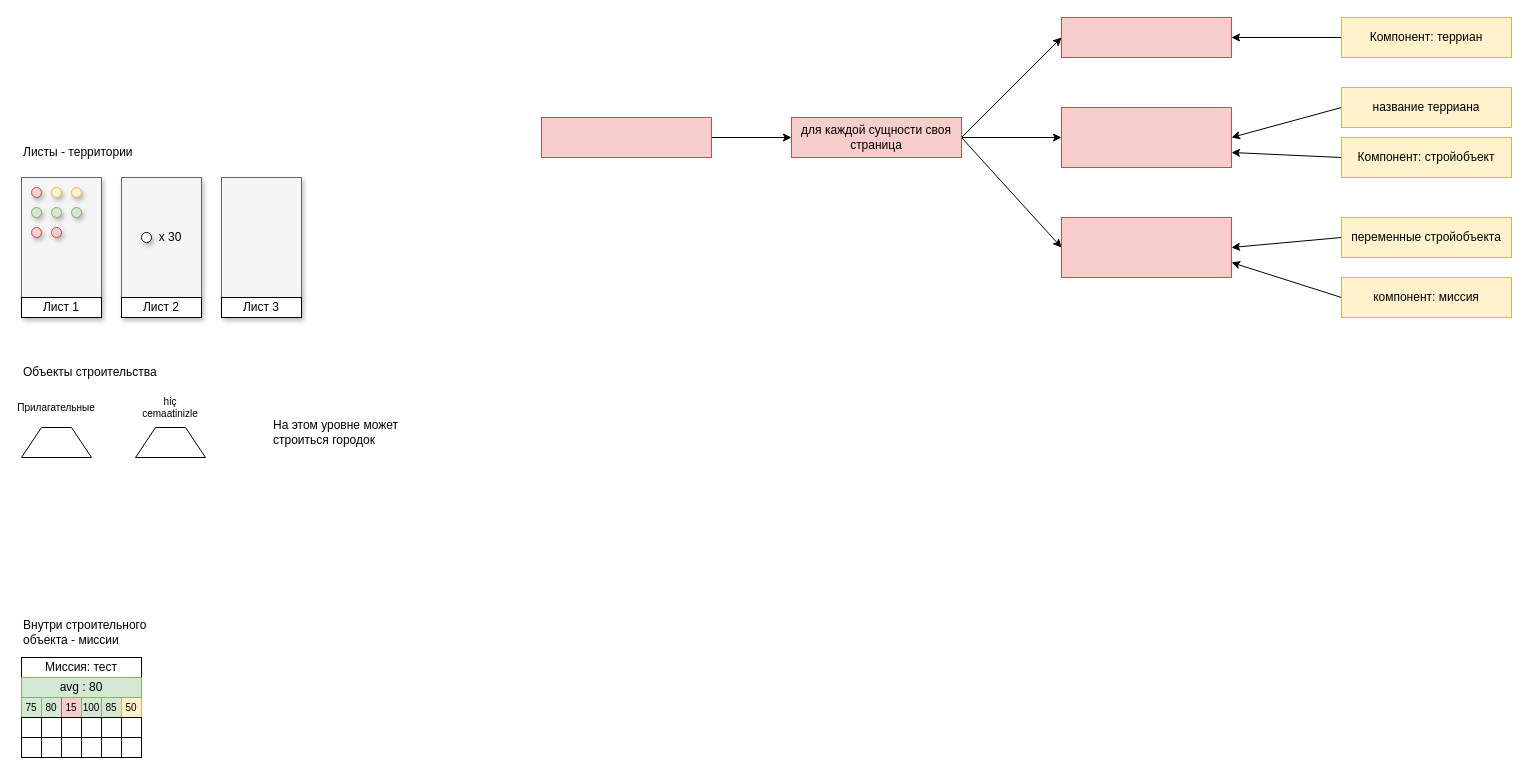
The diagram is 1529 pixels wide and 775 high, and some of its shapes have lost their labels. Each missing label, with the centre of its shape:
Решение по ui-angular страницам: the point at 626,137
Страница: Коллекция террианов: the point at 1146,37
Страница: Стройобъект + название + коллекция миссий: the point at 1146,247
Страница: Терриан + название + коллекция стройобъектов: the point at 1146,137
